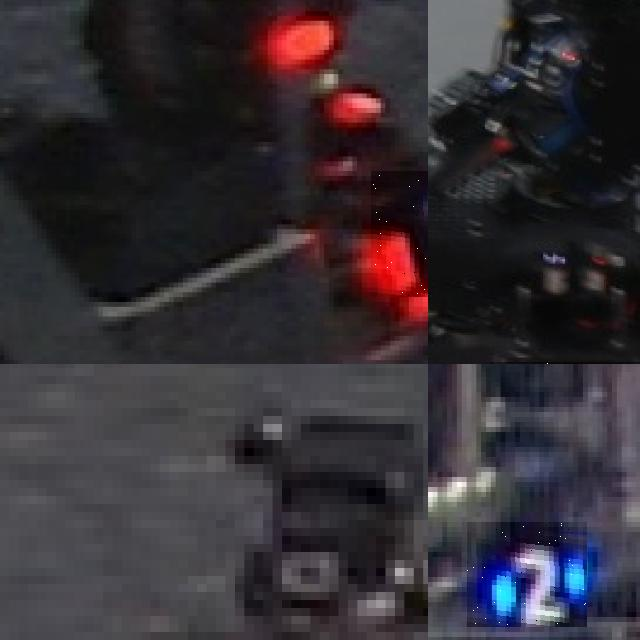B2: (467, 522, 587, 627)
R1: (371, 171, 428, 297)
